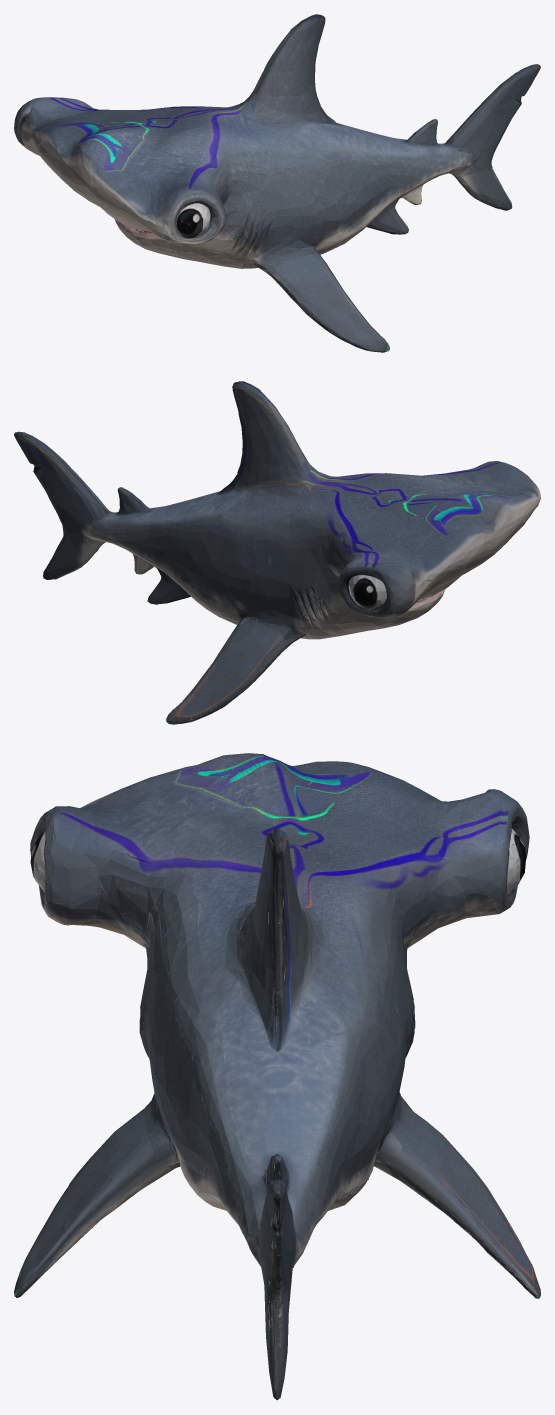
File: tiburonfbx.fbx
3 renders of one model, top to bottom at view 1: azimuth 30°, elevation 25°; view 2: azimuth 150°, elevation 25°; view 3: azimuth 270°, elevation 25°, orthographic. The views are drawn at different scales.
Parts seen in each view (by area): view 1: tiburon; view 2: tiburon; view 3: tiburon.
Part boxes in pixels (x1,y1,x2,y2): tiburon: (14,14,540,352); tiburon: (14,381,540,724); tiburon: (14,753,540,1399).
Bounding box in the file's own units: 1.99 × 1.11 × 1.13.
1 material, 1 textured.
